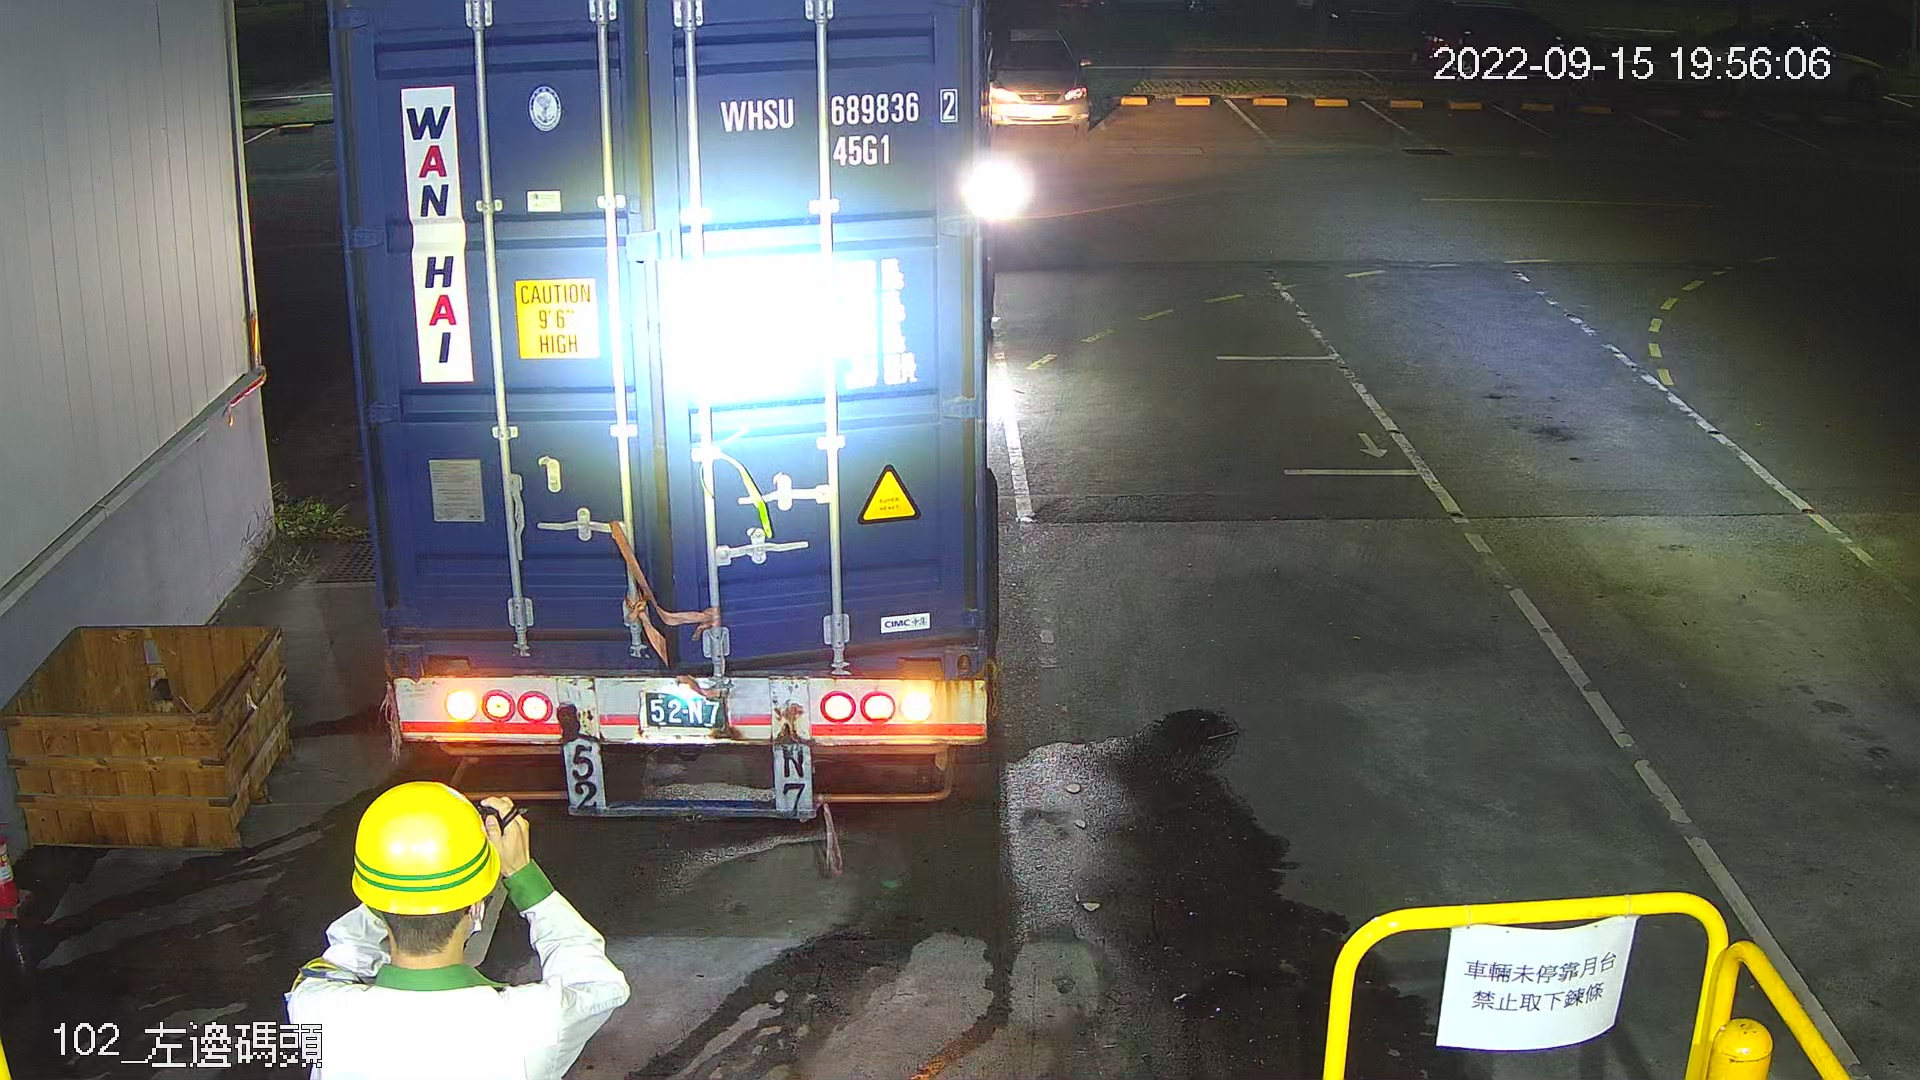container: (704, 80, 971, 177)
